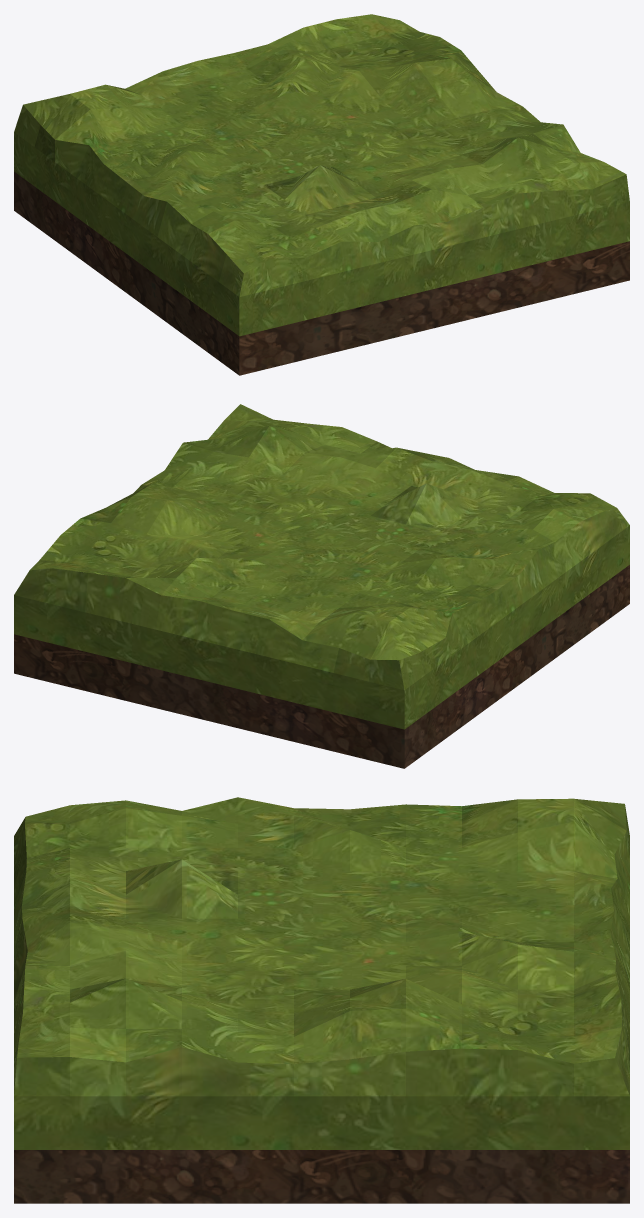
The model's file is Grass 1.fbx.
3 views of the same model, one above another, from view 1: azimuth 30°, elevation 25°; view 2: azimuth 150°, elevation 25°; view 3: azimuth 270°, elevation 25° (orthographic). The views are drawn at different scales.
Parts seen in each view (by area): view 1: Grass; view 2: Grass; view 3: Grass.
Part boxes in pixels (x1,y1,x2,y2): Grass: (14, 14, 629, 375); Grass: (14, 404, 629, 768); Grass: (14, 797, 629, 1203).
Size of the model in its own units: 32 by 100 by 100.
2 materials, 2 textured.
